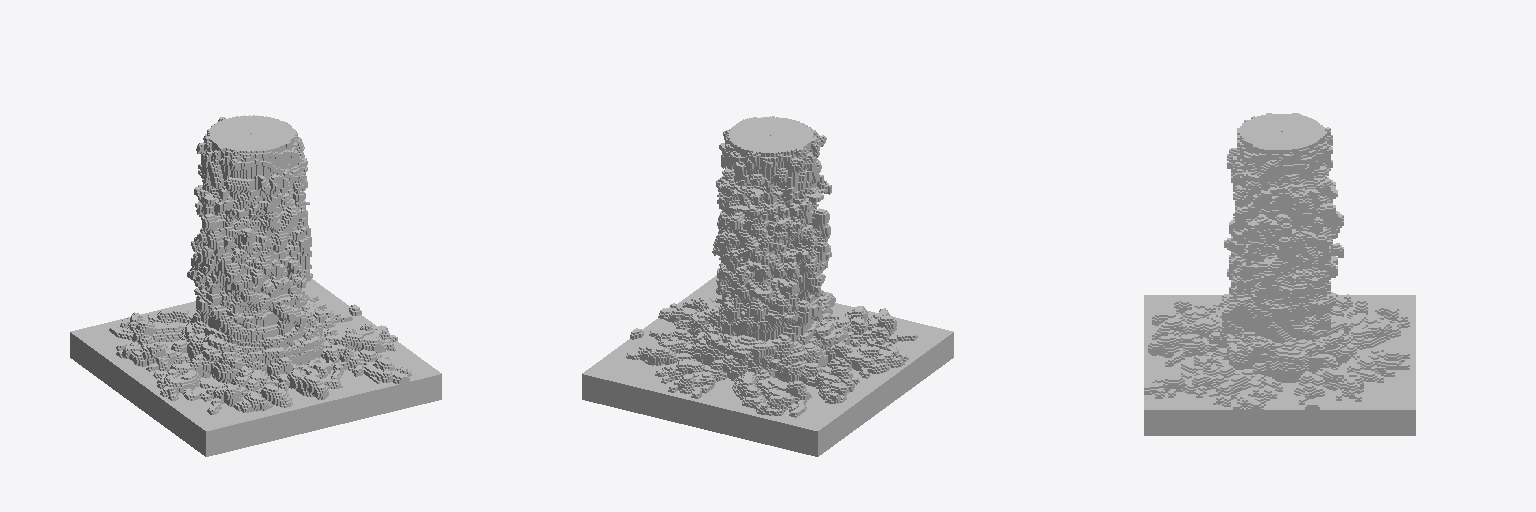
File: Map (26).obj
The picture shows the model from 3 angles: view 1: azimuth 30°, elevation 25°; view 2: azimuth 150°, elevation 25°; view 3: azimuth 270°, elevation 25°; orthographic projection.
Parts seen in each view (by area): view 1: ALL MAP!!!!!!!!!!!-23; view 2: ALL MAP!!!!!!!!!!!-23; view 3: ALL MAP!!!!!!!!!!!-23.
Part boxes in pixels (bbox=[...]): ALL MAP!!!!!!!!!!!-23: bbox=[70, 115, 441, 456]; ALL MAP!!!!!!!!!!!-23: bbox=[582, 116, 953, 456]; ALL MAP!!!!!!!!!!!-23: bbox=[1144, 113, 1415, 435].
Bounding box in the file's own units: 125 × 124 × 125.